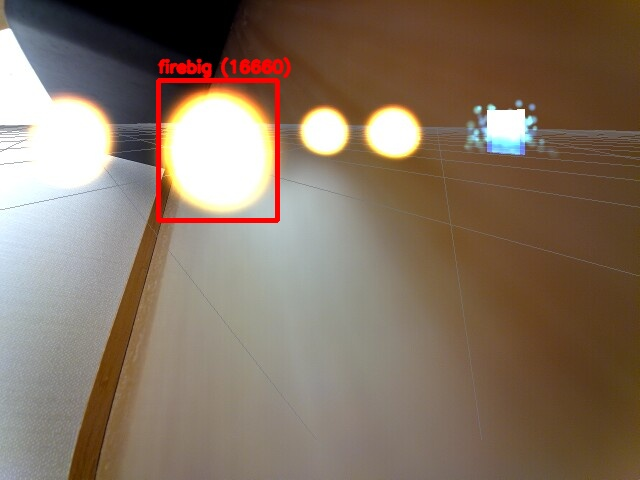firebig: (158, 80, 277, 220)
